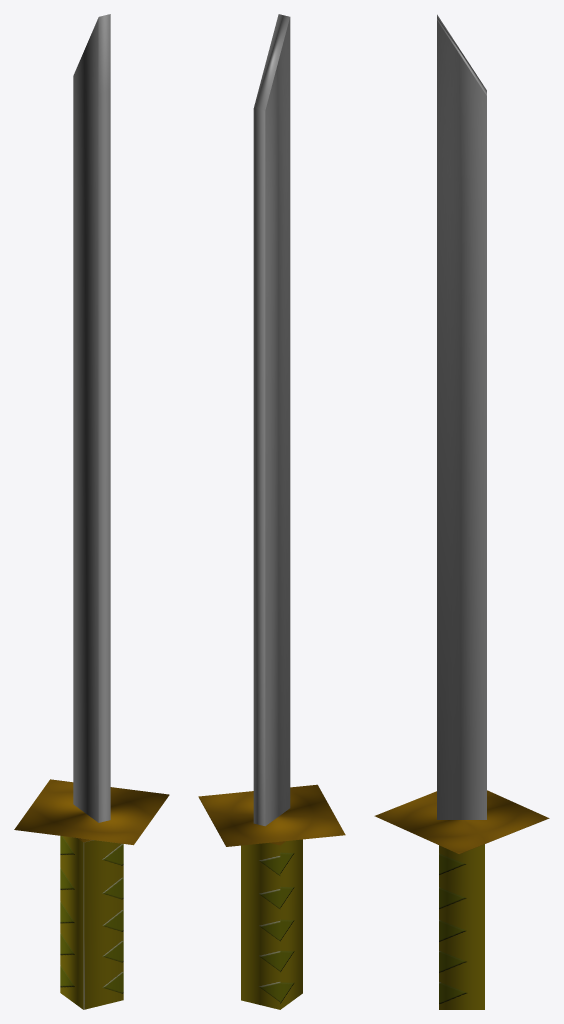
File: katana.fbx
3 views of the same model, side by side, from view 1: azimuth 30°, elevation 25°; view 2: azimuth 150°, elevation 25°; view 3: azimuth 270°, elevation 25° (orthographic).
Parts seen in each view (by area): view 1: Cube; view 2: Cube; view 3: Cube.
Boxes of the visible parts, x1,y1,x2,y2 form: Cube: [14, 14, 169, 1009]; Cube: [198, 14, 345, 1009]; Cube: [374, 14, 549, 1009].
Size of the model in its own units: 0.1914 by 1.18 by 0.1914.
1 material, 1 textured.
